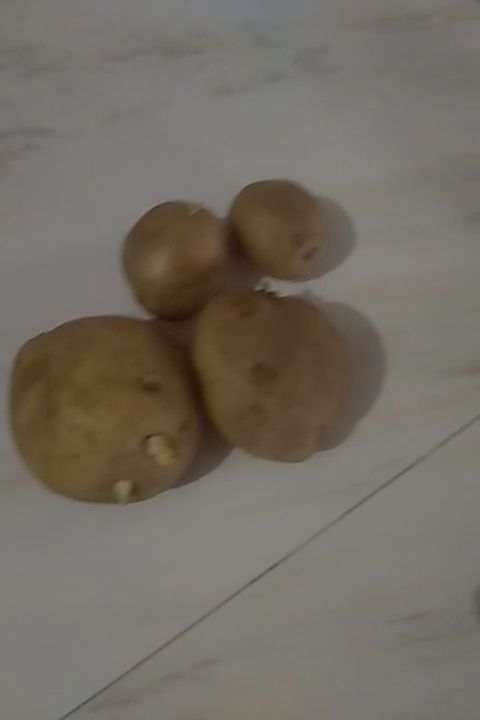potato: (1, 311, 192, 503), (196, 295, 365, 470), (116, 192, 237, 303), (227, 178, 335, 283)
